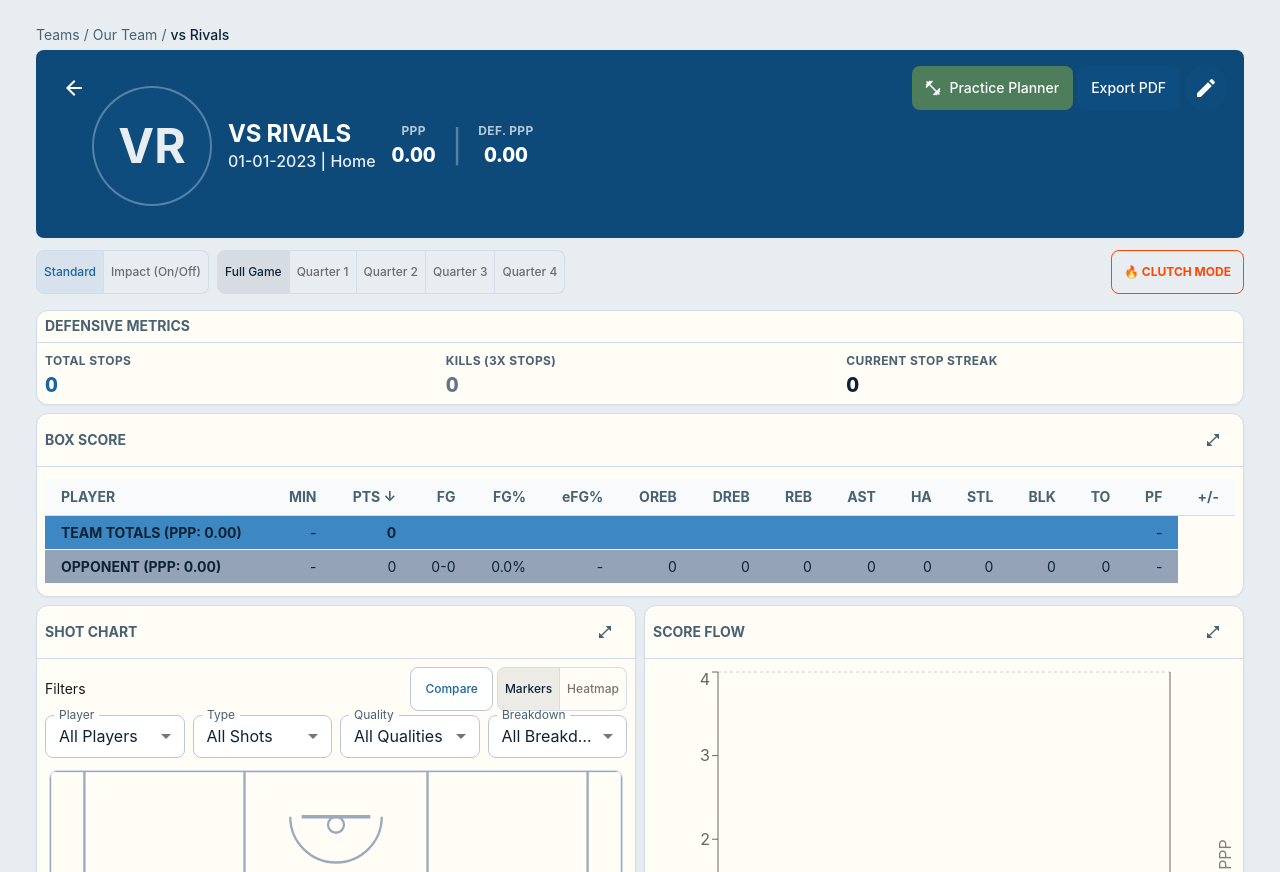
Test: GameStats Page › switches between Standard and Impact tabs
This screenshot has width=1280, height=872.
Check: the button "Standard" is shown, box x1=36 y1=250 x2=104 y2=294
Click the button "Impact (On/Off)": (156, 272) x1=103 y1=250 x2=209 y2=294
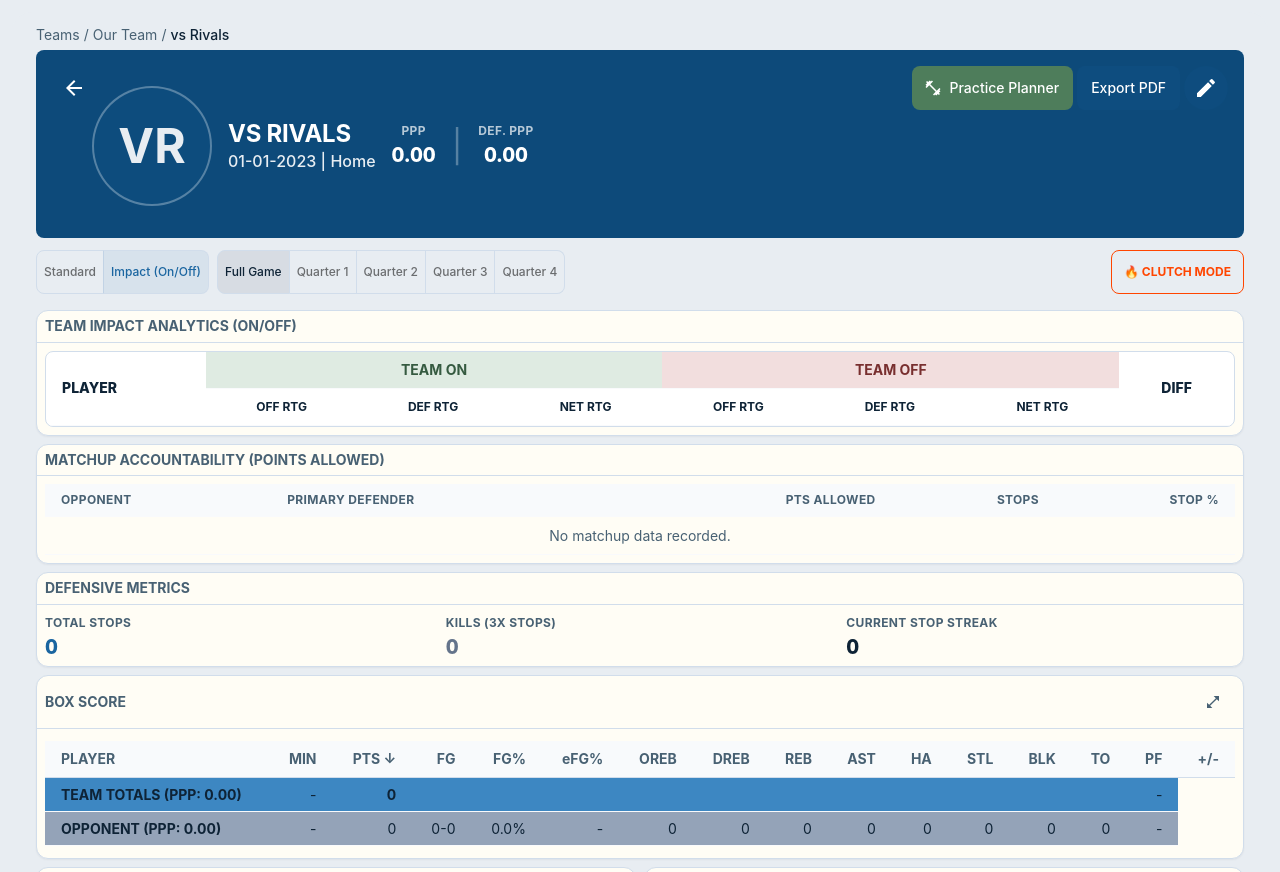
Check: the text "Team Impact Analytics (On/Off)" is shown, box x1=45 y1=315 x2=297 y2=338
Check: the text "Matchup Accountability (Points Allowed)" is shown, box x1=45 y1=449 x2=385 y2=471
